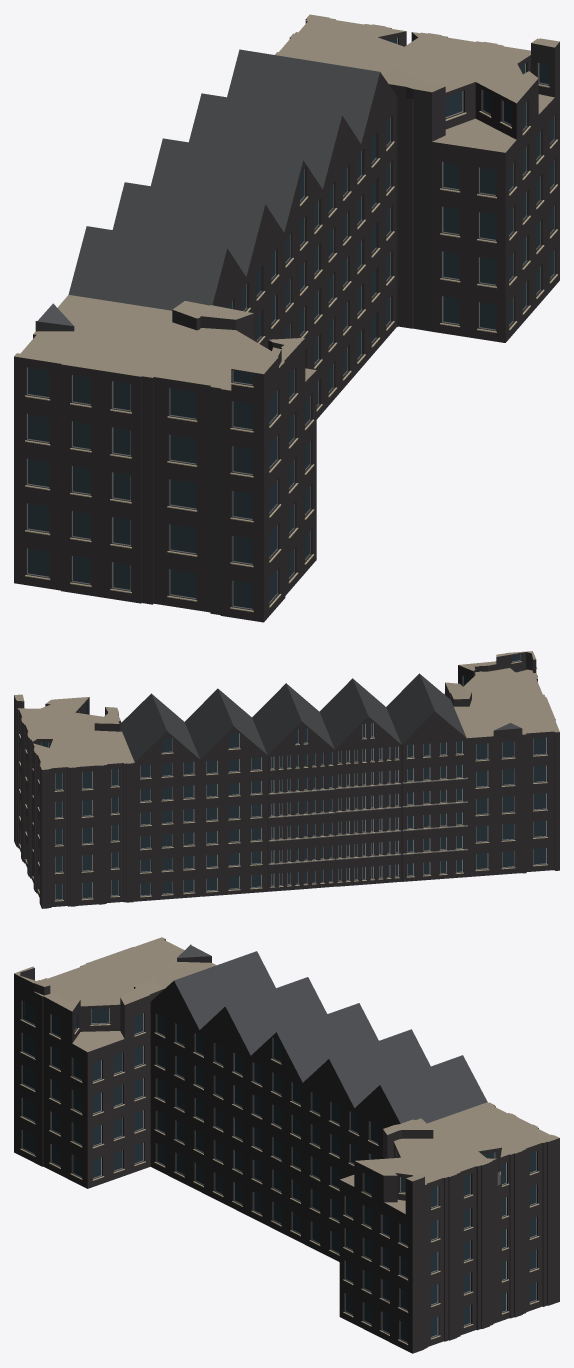
The model's file is recipe-large-wiborgeiland-253602.glb.
3 renders of one model, top to bottom at view 1: azimuth 30°, elevation 25°; view 2: azimuth 150°, elevation 25°; view 3: azimuth 270°, elevation 25°, orthographic. The views are drawn at different scales.
Visible parts, largest first — view 1: wiborgeiland-253602; view 2: wiborgeiland-253602; view 3: wiborgeiland-253602.
Boxes of the visible parts, left/top/right/bottom form: wiborgeiland-253602: left=14, top=14, right=559, bottom=622; wiborgeiland-253602: left=14, top=651, right=559, bottom=908; wiborgeiland-253602: left=14, top=937, right=559, bottom=1353.
Bounding box in the file's own units: 63.08 × 23.05 × 57.49.
